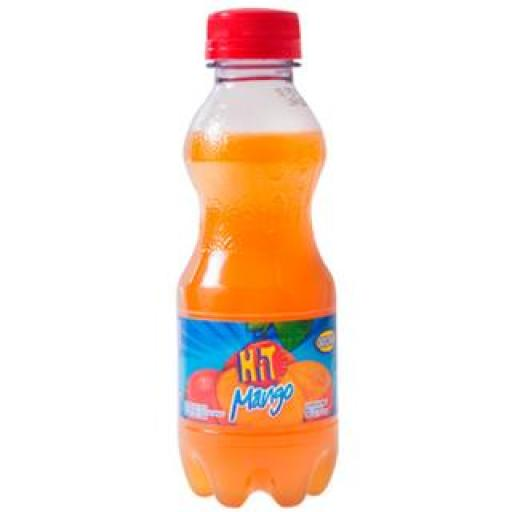JugoHM: (149, 0, 362, 512)
